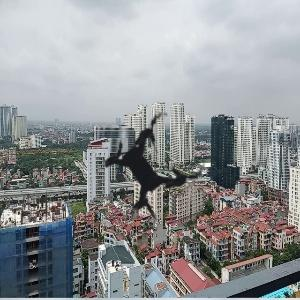drone: (64, 81, 236, 253)
